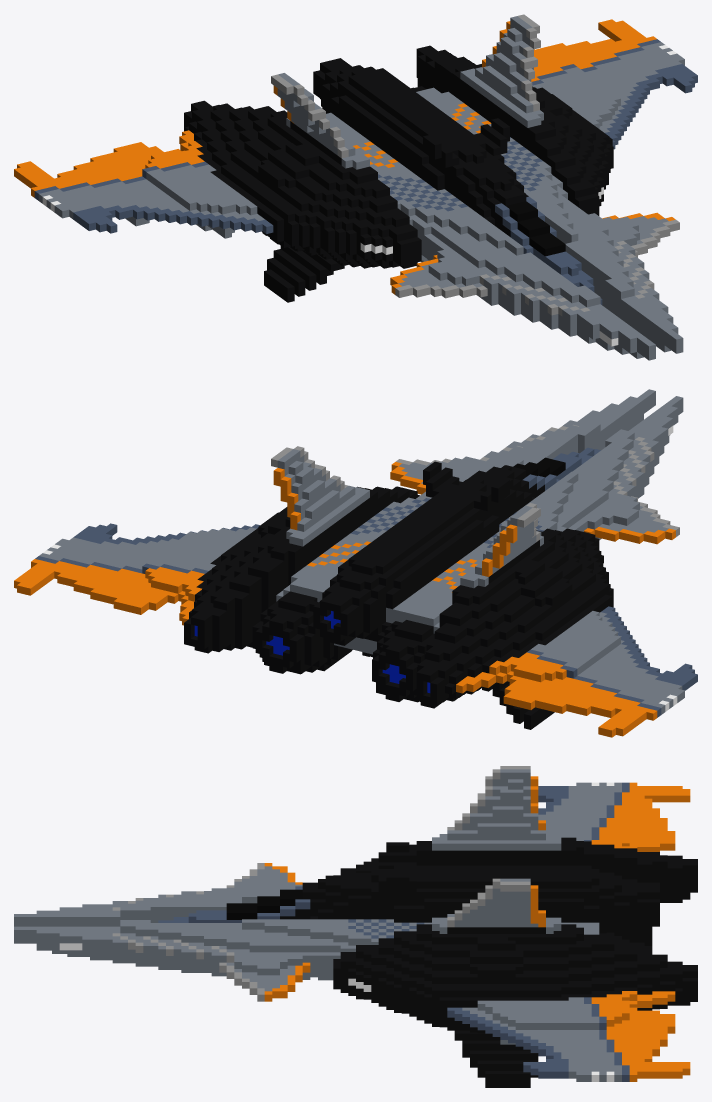
The model's file is Spaceship2.obj.
3 renders of one model, top to bottom at view 1: azimuth 30°, elevation 25°; view 2: azimuth 150°, elevation 25°; view 3: azimuth 270°, elevation 25°, orthographic. The views are drawn at different scales.
Parts seen in each view (by area): view 1: Spaceship2_Spaceships.024; view 2: Spaceship2_Spaceships.024; view 3: Spaceship2_Spaceships.024.
Boxes of the visible parts, x1,y1,x2,y2 form: Spaceship2_Spaceships.024: [14, 14, 697, 360]; Spaceship2_Spaceships.024: [14, 389, 697, 737]; Spaceship2_Spaceships.024: [14, 766, 697, 1087].
Bounding box in the file's own units: 9.1 × 2.9 × 9.
